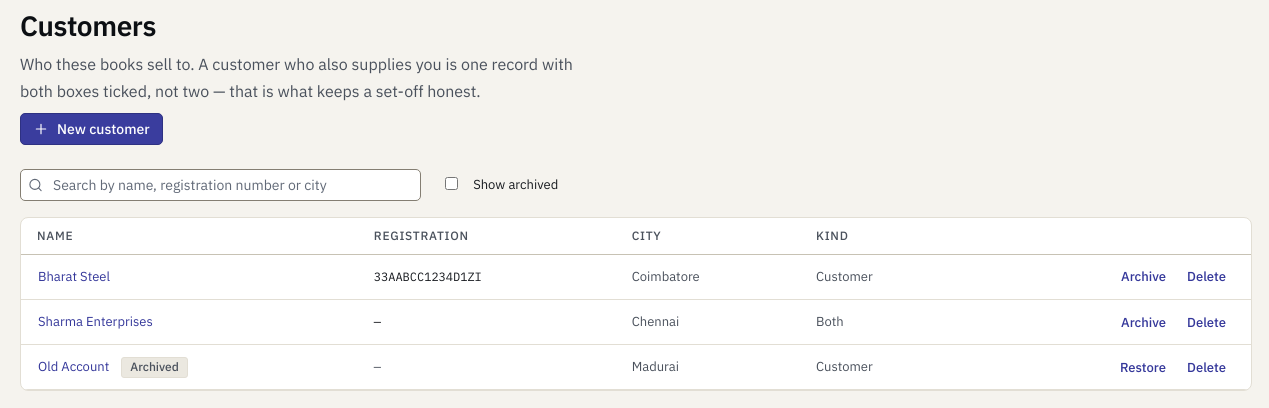
the list › filters as you type, without asking again
Expected: the button "Bharat Steel" is shown, top-left (29, 263), bottom-right (119, 291)
Type "chennai" into the field with placeholder "Search by name, registration number or city" at (221, 185), box top-left (20, 169), bottom-right (421, 201)
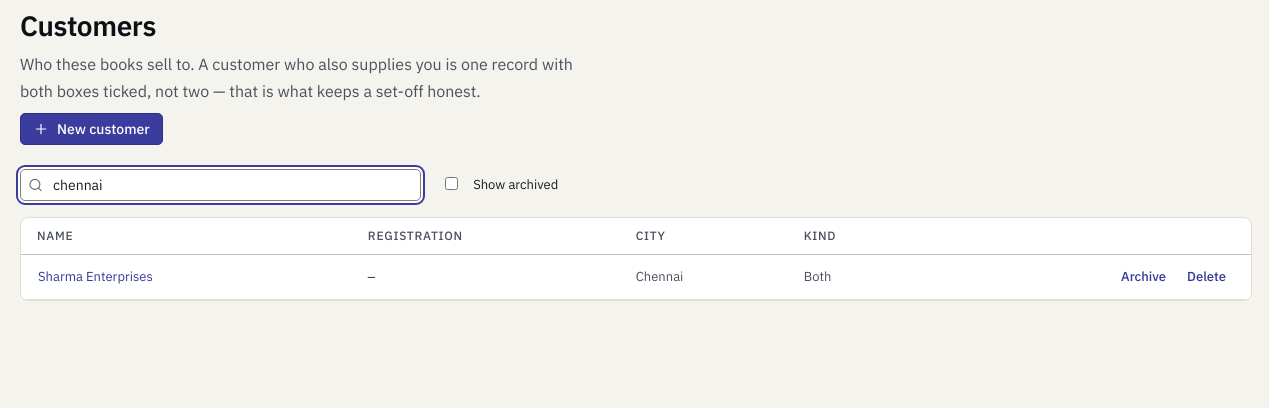
Expected: the button "Sharma Enterprises" is shown, top-left (29, 263), bottom-right (162, 291)
Expected: the button "Bharat Steel" is gone
